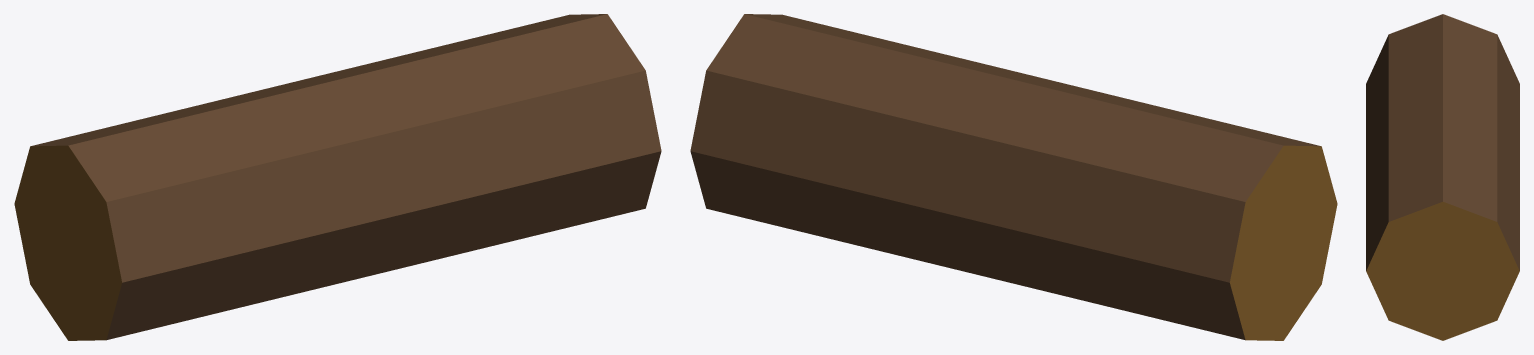
File: log-seat.glb
3 renders of one model, left to right at view 1: azimuth 30°, elevation 25°; view 2: azimuth 150°, elevation 25°; view 3: azimuth 270°, elevation 25°, orthographic. The views are drawn at different scales.
Parts seen in each view (by area): view 1: log_seat; view 2: log_seat; view 3: log_seat.
Boxes of the visible parts, box(x1,y1,x2,y2) form: log_seat: box(14, 14, 661, 340); log_seat: box(690, 14, 1337, 340); log_seat: box(1366, 14, 1519, 340).
Bounding box in the file's own units: 0.4333 × 0.15 × 0.15.
